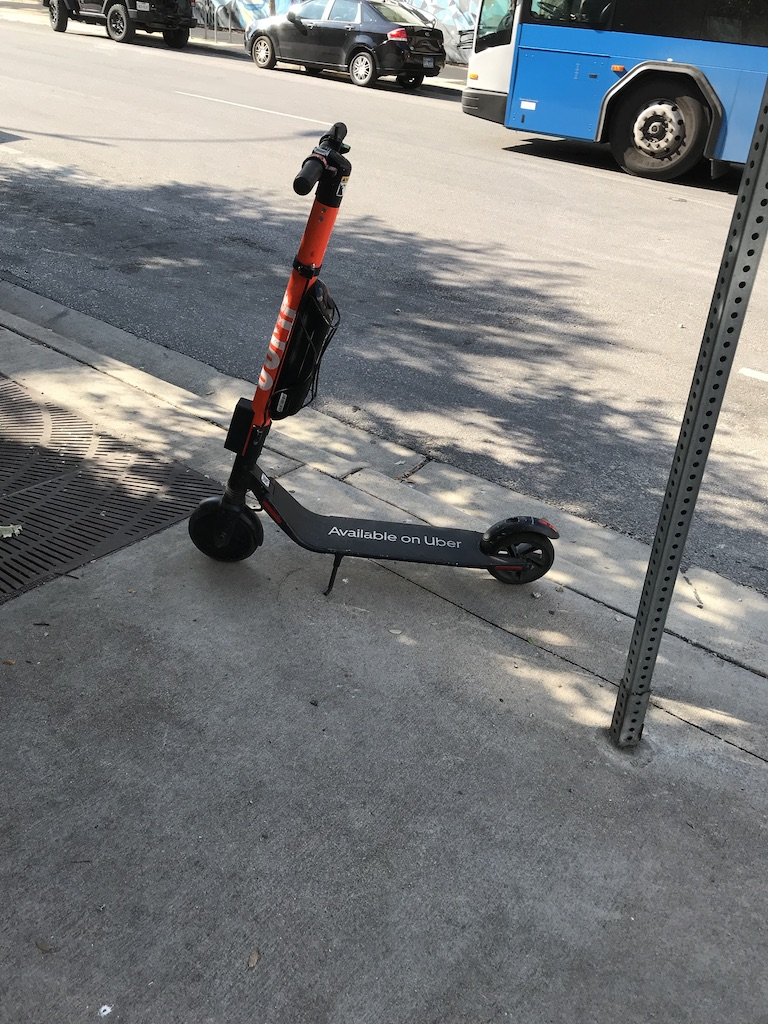scooter: (185, 119, 559, 587)
